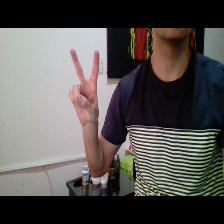KP: (63, 43, 106, 130)
